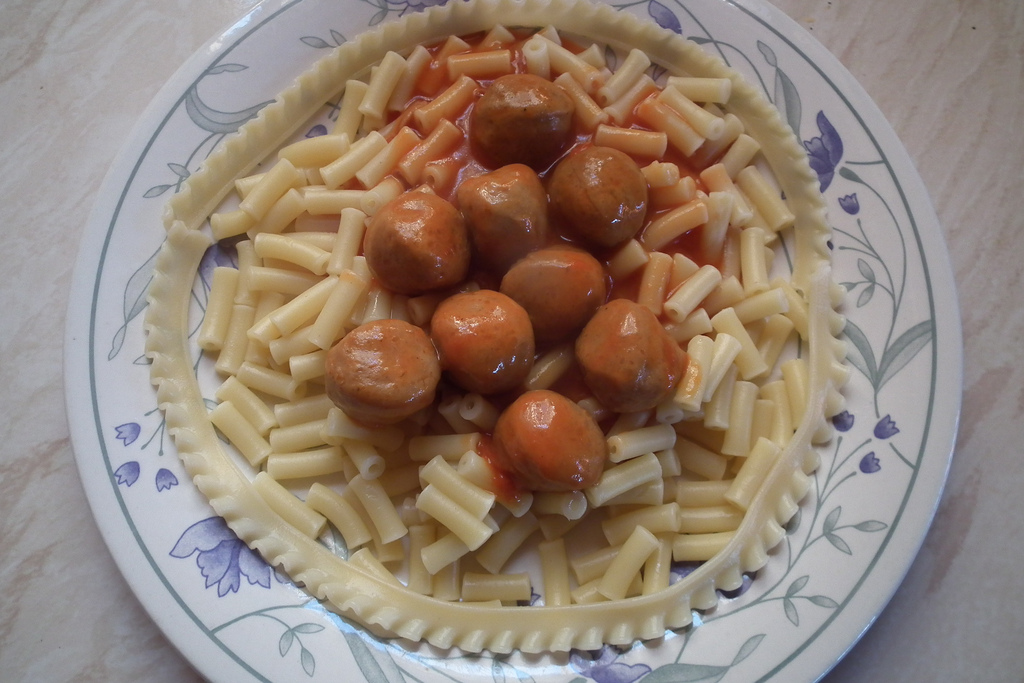meatballs: (363, 189, 475, 301), (335, 309, 441, 426), (564, 296, 684, 398), (501, 385, 609, 485), (464, 67, 571, 167), (497, 241, 617, 323), (450, 163, 559, 252), (442, 275, 526, 389), (559, 145, 650, 241)
plain spaghetti: (192, 31, 842, 636)
